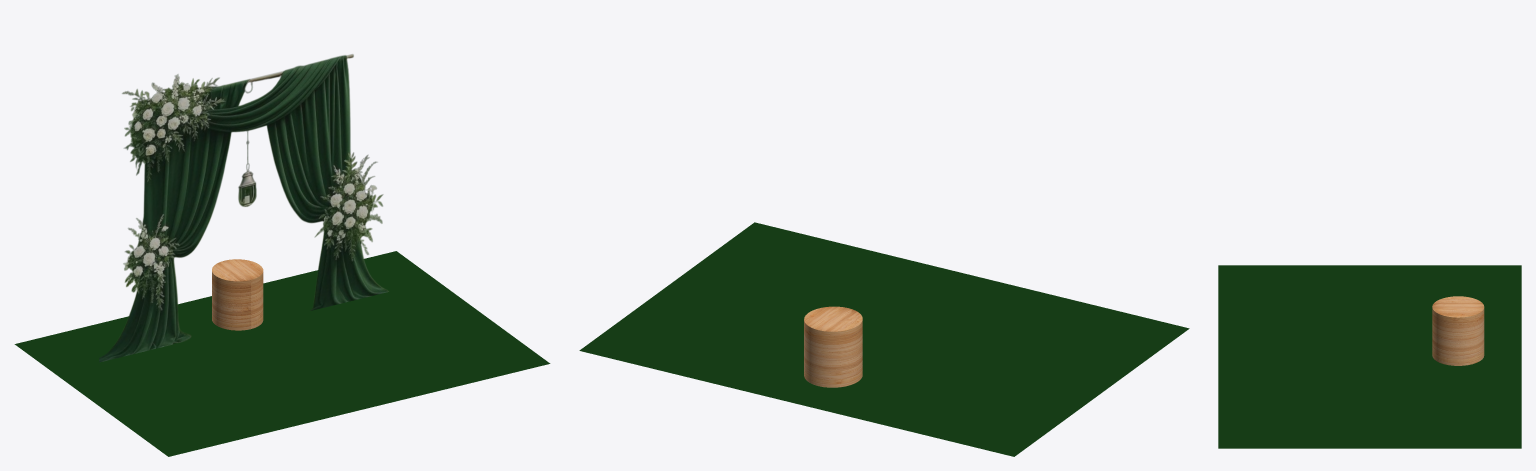
The model's file is mayoun-garden.glb.
The picture shows the model from 3 angles, left to right: view 1: azimuth 30°, elevation 25°; view 2: azimuth 150°, elevation 25°; view 3: azimuth 270°, elevation 25°; orthographic projection. The views are drawn at different scales.
Parts seen in each view (by area): view 1: Plane (×2), Cylinder; view 2: Plane, Cylinder; view 3: Plane, Cylinder.
Boxes of the visible parts, x1=… form: Plane (×2): x1=14, y1=54, x2=550, y2=456; Cylinder: x1=212, y1=259, x2=263, y2=330; Plane: x1=579, y1=222, x2=1189, y2=456; Cylinder: x1=804, y1=306, x2=862, y2=387; Plane: x1=1218, y1=265, x2=1521, y2=448; Cylinder: x1=1432, y1=296, x2=1484, y2=365.
Size of the model in its own units: 6.12 by 4.7 by 4.28.
Materials: 3 (2 with a texture image).
